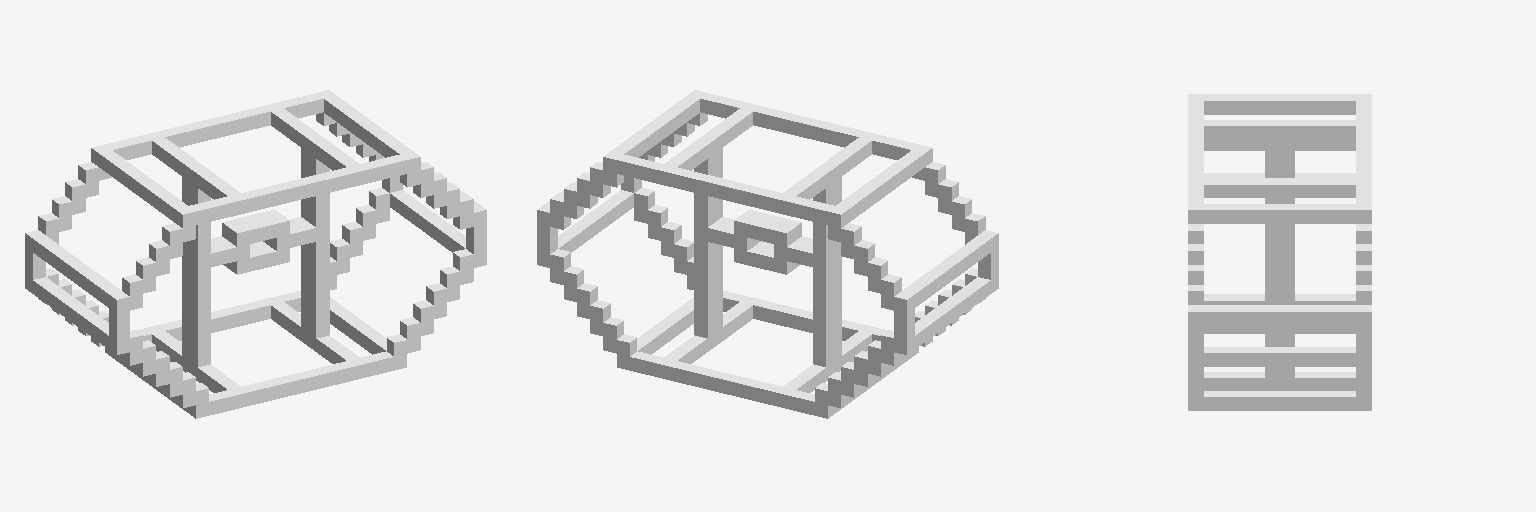
The model's file is MejoraCharmando.obj.
The picture shows the model from 3 angles: view 1: azimuth 30°, elevation 25°; view 2: azimuth 150°, elevation 25°; view 3: azimuth 270°, elevation 25°; orthographic projection.
Visible parts, largest first — view 1: object 1; view 2: object 1; view 3: object 1.
Part boxes in pixels (x1,y1,x2,y2): object 1: (25,90,486,418); object 1: (537,90,998,418); object 1: (1188,94,1371,410).
Size of the model in its own units: 2.8 by 1.5 by 1.2.